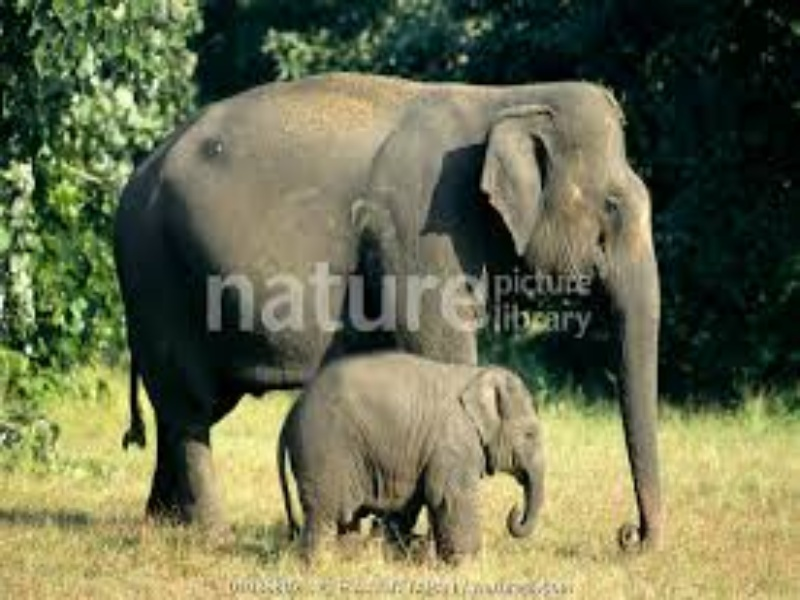elephant: (102, 74, 703, 582), (278, 359, 571, 577)
